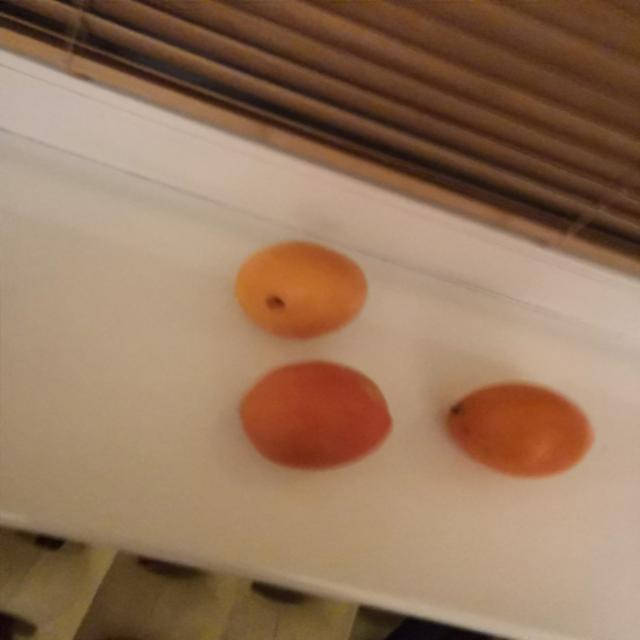orange: (240, 361, 392, 469), (447, 382, 593, 478), (235, 241, 367, 339)
